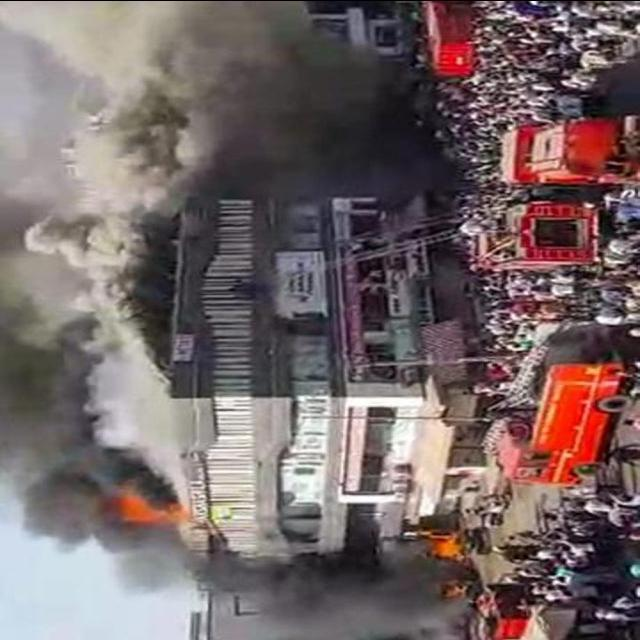Fire: (111, 486, 189, 540), (425, 537, 472, 569)
